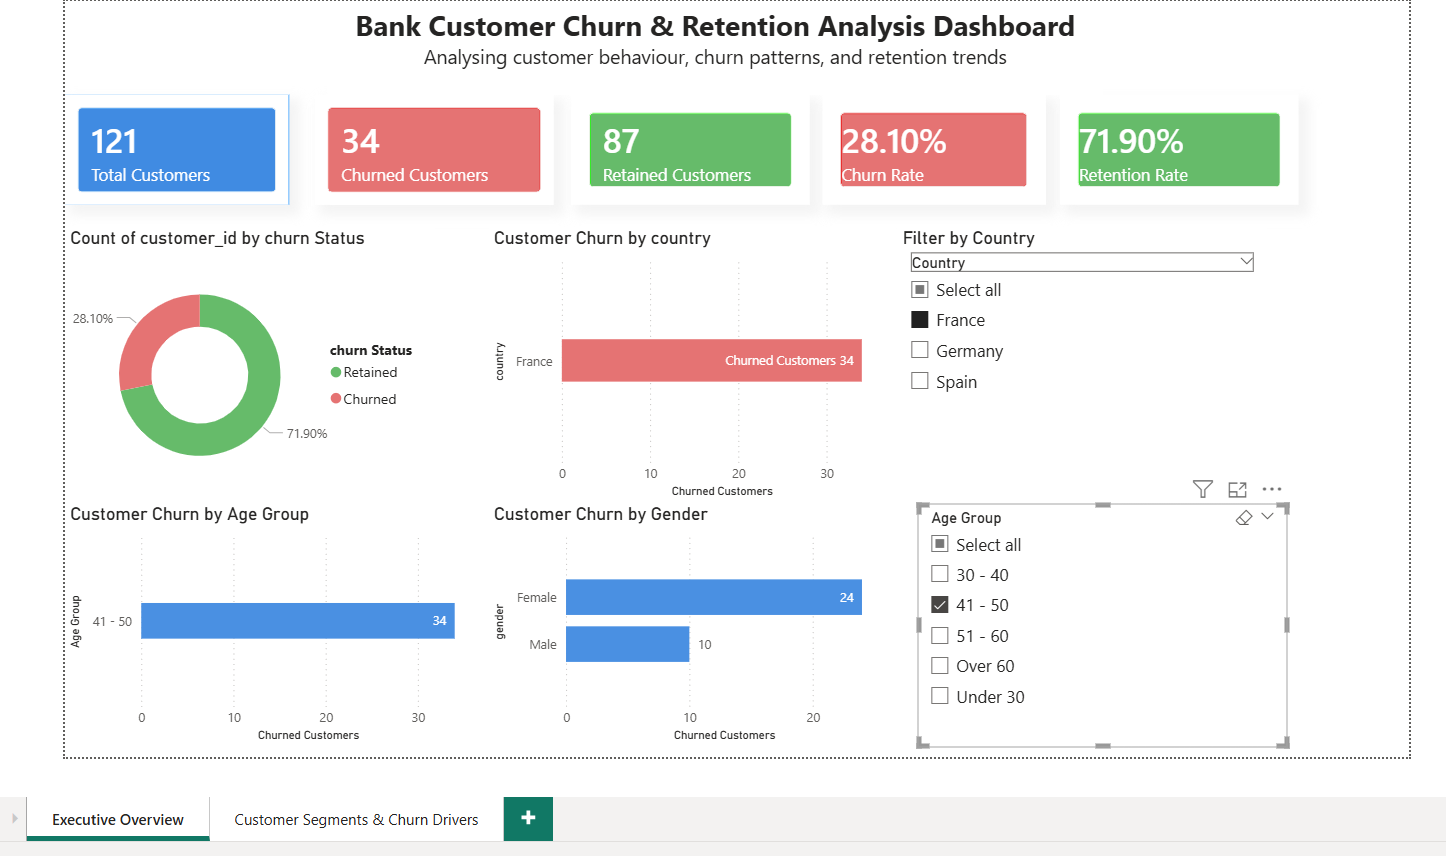

Layout of this report page (visuals, bound fields, positions):
{"tool":"powerbi","page":{"name":"Executive Overview","canvas":[1280,720],"ordinal":0},"visuals":[{"type":"cardVisual","fields":{"Data":["ChurnTable.Total Customers"]},"box":[0,89.3,214,105.2],"z":0},{"type":"cardVisual","fields":{"Data":["ChurnTable.Churned Customers"]},"box":[238.5,89.3,227.4,105.2],"z":1000},{"type":"cardVisual","fields":{"Data":["ChurnTable.Retained Customers"]},"box":[481.8,89.3,227.4,105.2],"z":2000},{"type":"cardVisual","fields":{"Data":["ChurnTable.Churn Rate"]},"box":[721.5,89.3,212.8,105.2],"z":3000},{"type":"cardVisual","fields":{"Data":["ChurnTable.Retention Rate"]},"box":[947.7,89.3,227.4,105.2],"z":4000},{"type":"textbox","box":[249.5,0,738.6,89.3],"z":5000},{"type":"donutChart","fields":{"Category":["ChurnTable.churn Status"],"Y":["CountNonNull(ChurnTable.customer_id)"]},"box":[0,215.2,352.2,262.9],"z":6000},{"type":"clusteredBarChart","title":"Customer Churn  by country","fields":{"Category":["ChurnTable.country"],"Y":["ChurnTable.Churned Customers"]},"box":[403.5,215.2,387.6,262.9],"z":7000},{"type":"clusteredBarChart","title":"Customer Churn by Age Group","fields":{"Y":["ChurnTable.Churned Customers"],"Category":["ChurnTable.Age Group"]},"box":[0,478.1,403.5,232.3],"z":8000},{"type":"clusteredBarChart","title":"Customer Churn by Gender","fields":{"Category":["ChurnTable.gender"],"Y":["ChurnTable.Churned Customers"]},"box":[404,478,388,232],"z":9000},{"type":"slicer","title":"Filter by Country","fields":{"Values":["ChurnTable.country"]},"box":[792.4,215.2,352.2,247],"z":10000},{"type":"slicer","fields":{"Values":["ChurnTable.Age Group"]},"box":[812,478.1,352.2,232.3],"z":11000}]}

Visuals, with their boxes on the page's 1280x720 design canvas (x1, y1, x2, y2). These are canvas units, not pixel positions in the 1446x856 screenshot, which may show the page scaled, cropped or inside an application window:
cardVisual - ChurnTable.Total Customers: 0,89,214,194
cardVisual - ChurnTable.Churned Customers: 238,89,466,194
cardVisual - ChurnTable.Retained Customers: 482,89,709,194
cardVisual - ChurnTable.Churn Rate: 722,89,934,194
cardVisual - ChurnTable.Retention Rate: 948,89,1175,194
textbox: 250,0,988,89
donutChart - ChurnTable.churn Status x CountNonNull(ChurnTable.customer_id): 0,215,352,478
"Customer Churn  by country" clusteredBarChart: 404,215,791,478
"Customer Churn by Age Group" clusteredBarChart: 0,478,404,710
"Customer Churn by Gender" clusteredBarChart: 404,478,792,710
"Filter by Country" slicer: 792,215,1145,462
slicer - ChurnTable.Age Group: 812,478,1164,710
